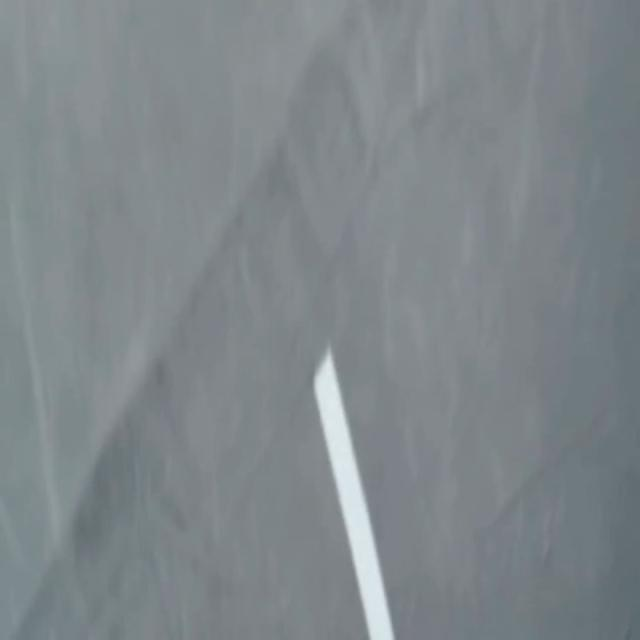center: (314, 347, 394, 639)
